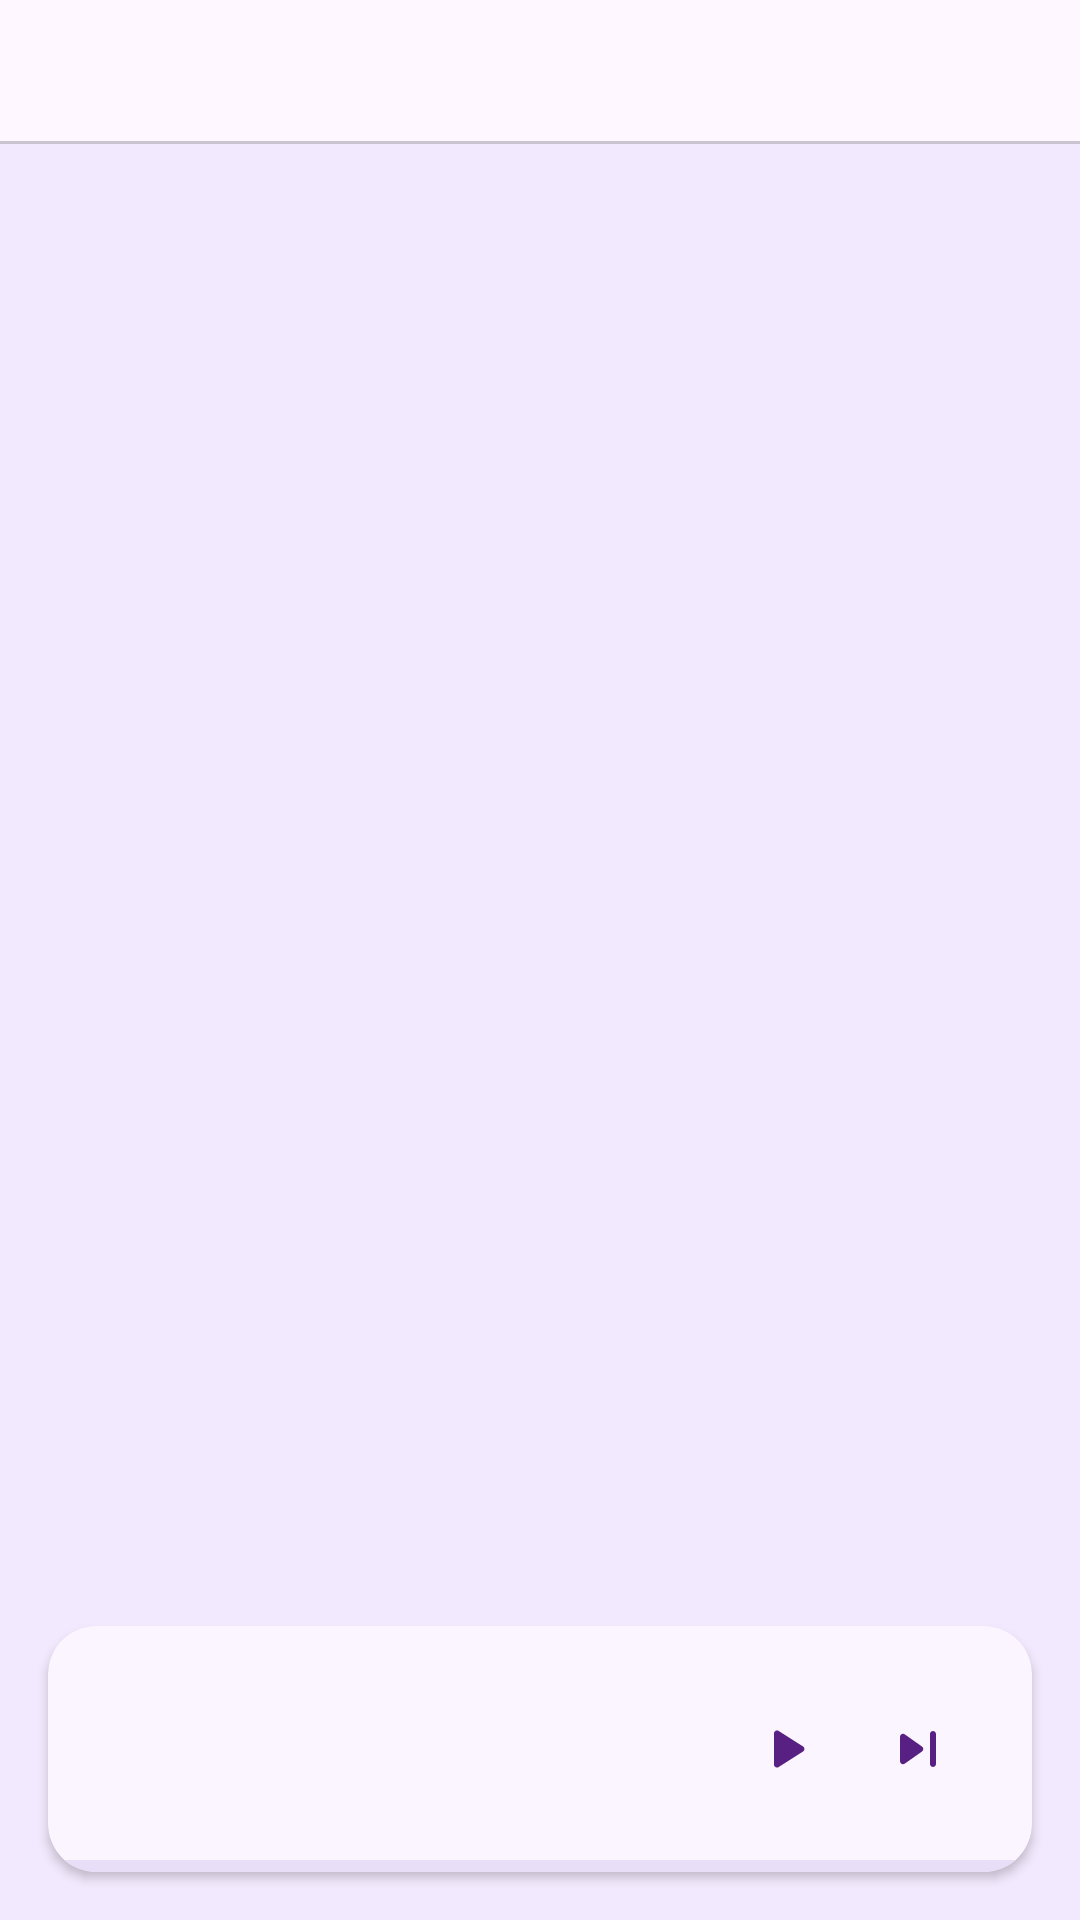

Locate icon controls on the screen. Image size 1080 x 1920, boxes as (x1, y1, x2, y2).
Forward: (900, 1731, 936, 1767)
Play/Pause Music player: (774, 1730, 805, 1768)
